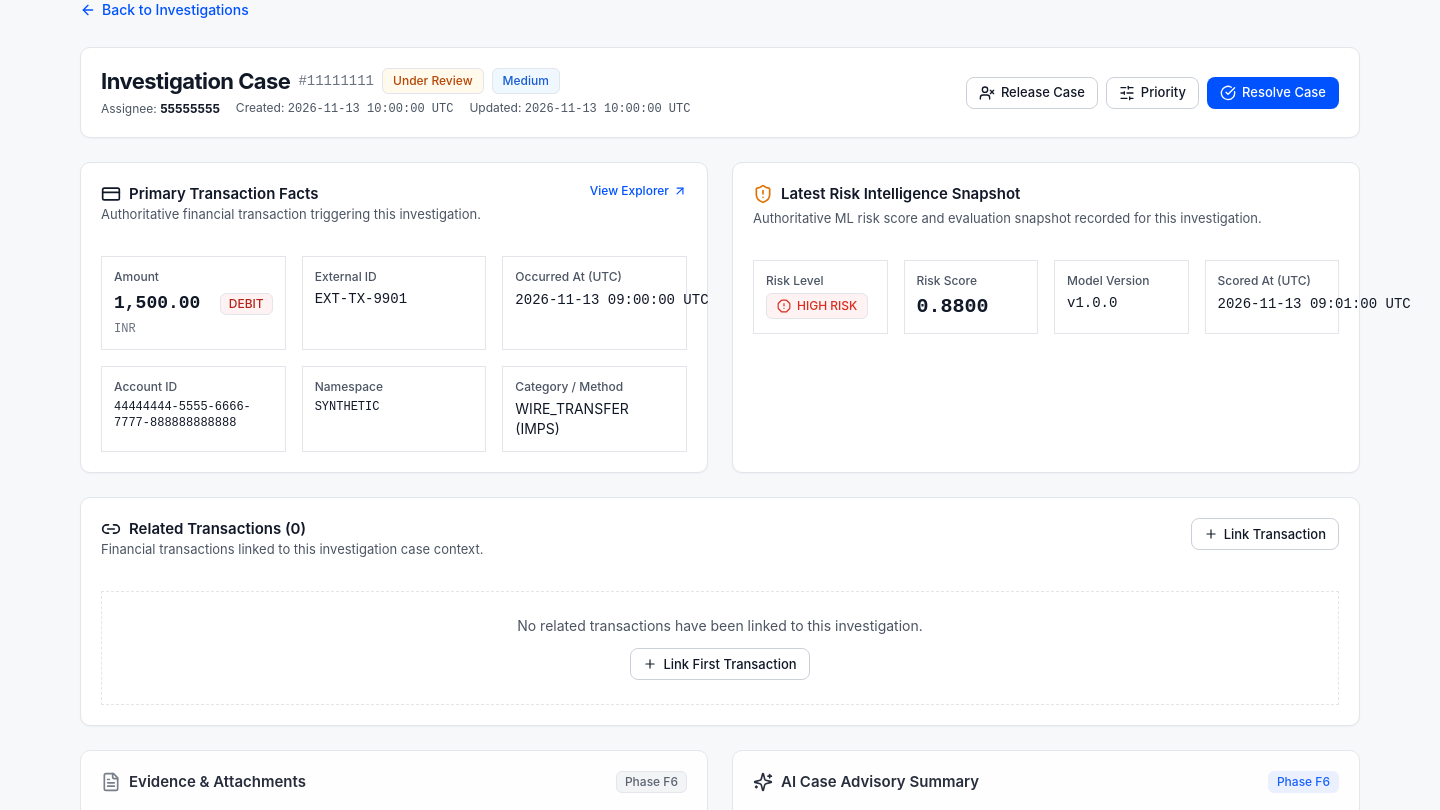
Test: InvestigationWorkspacePage component (F5.5–F5.6) › completes case resolution with mandatory notes and renders permanent read-only state
The image size is (1440, 810).
Later steps or results of the test are not shown.
Click the button with test id "resolve-case-button" at (1273, 92), box [1207,76,1339,108]
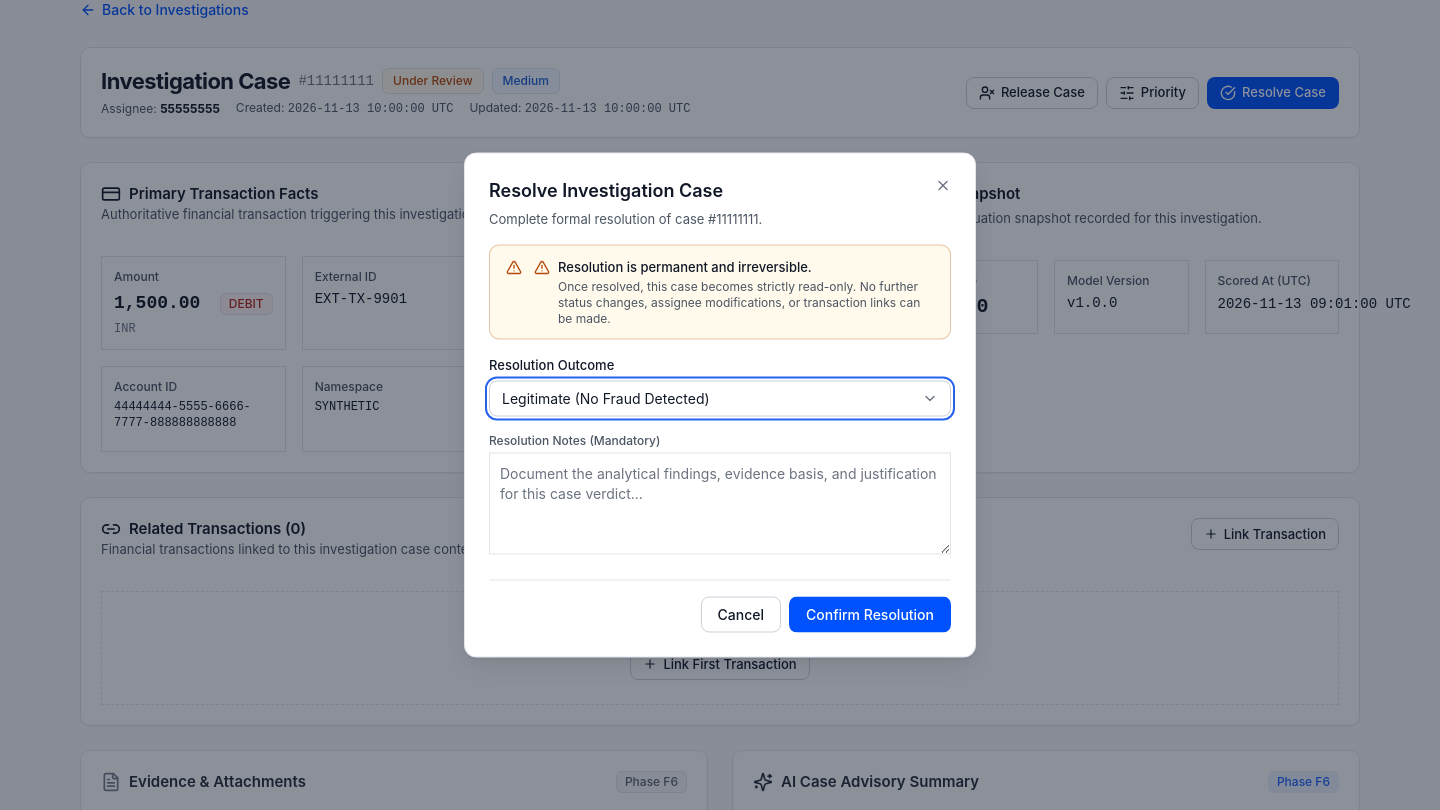
Now the dialog is shown, box [464,152,976,658]
Now the heading "Resolve Investigation Case" is shown, box [489,180,723,200]
